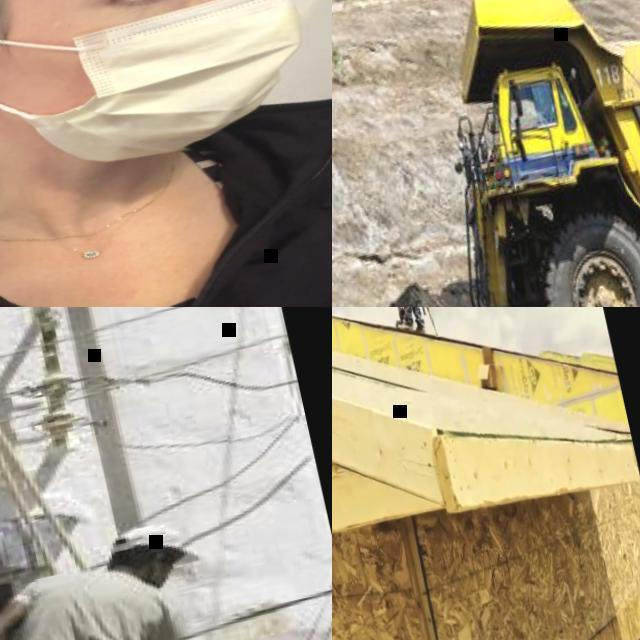helmet: (98, 516, 188, 574)
vest: (542, 98, 570, 125)
